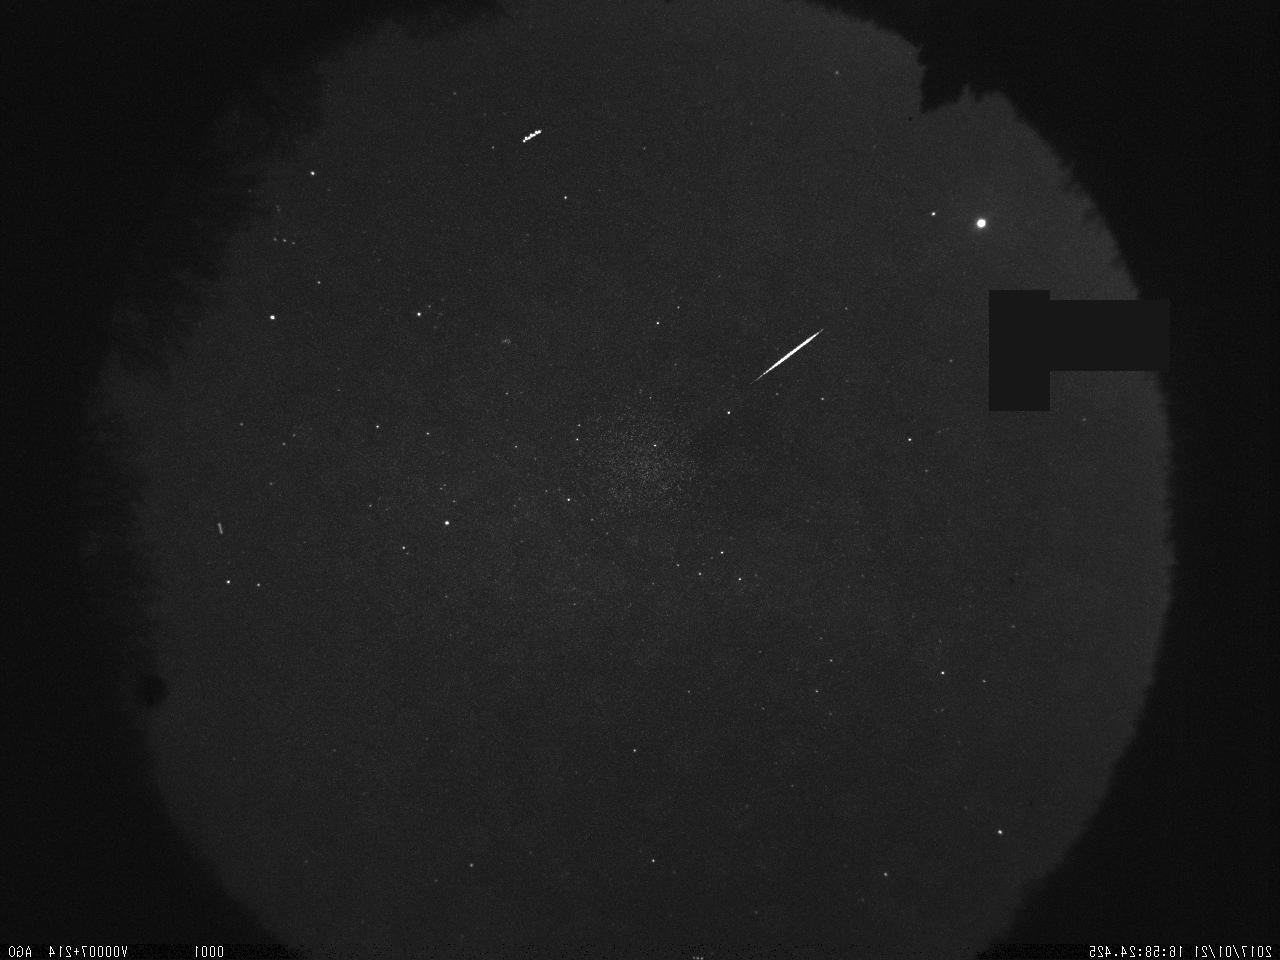meteor: (728, 307, 840, 414)
